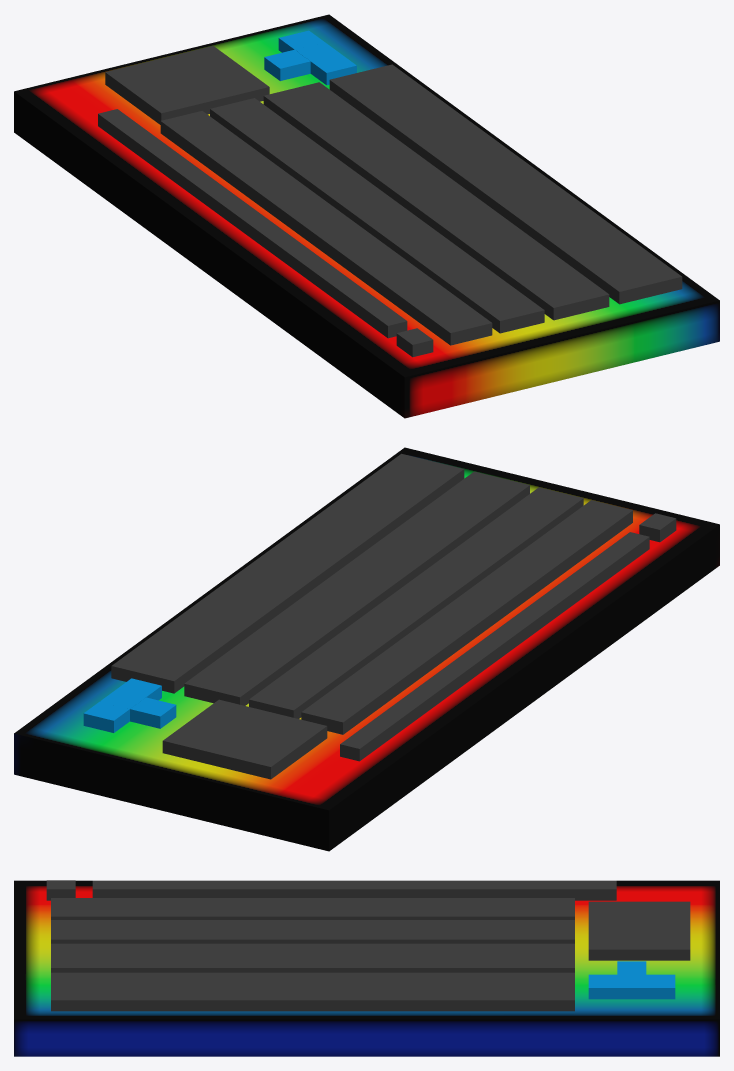
Rendered from keyboardRgb.fbx.
3 renders of one model, top to bottom at view 1: azimuth 30°, elevation 25°; view 2: azimuth 150°, elevation 25°; view 3: azimuth 270°, elevation 25°, orthographic. The views are drawn at different scales.
Parts seen in each view (by area): view 1: Keys, Board; view 2: Keys, Board; view 3: Keys, Board.
Boxes of the visible parts, x1,y1,x2,y2 form: Keys: (98,30,682,357); Board: (14,14,719,418); Keys: (83,453,676,779); Board: (14,447,719,851); Keys: (46,880,690,1011); Board: (14,880,719,1056).
Size of the model in its own units: 0.48 by 1.03 by 0.0787.
